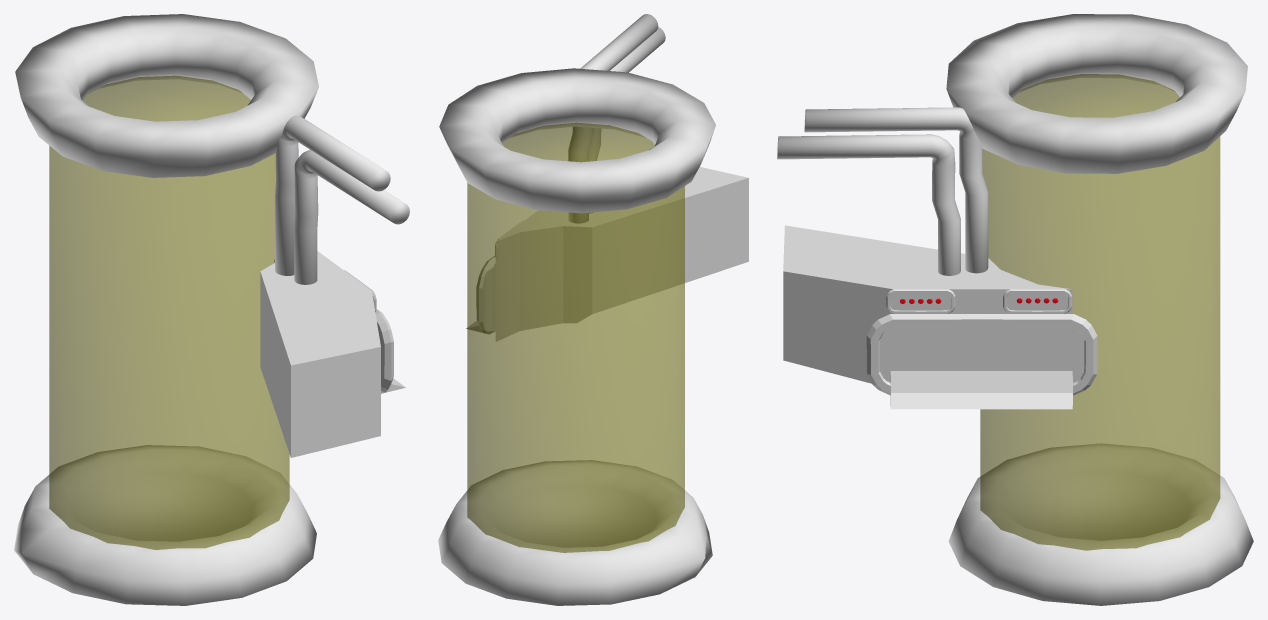
Rendered from reactor.glb.
3 views of the same model, side by side, from view 1: azimuth 30°, elevation 25°; view 2: azimuth 150°, elevation 25°; view 3: azimuth 270°, elevation 25° (orthographic). The views are drawn at different scales.
Visible parts, largest first — view 1: Canister, CanisterHolders, MainConsole, Pipes; view 2: Canister, CanisterHolders, MainConsole, Pipes; view 3: Canister, CanisterHolders, MainConsole, Pipes.
Part boxes in pixels (left/top/right/bottom): Canister: left=49, top=75, right=289, bottom=549; CanisterHolders: left=14, top=14, right=318, bottom=605; MainConsole: left=260, top=251, right=405, bottom=457; Pipes: left=275, top=116, right=409, bottom=284; Canister: left=467, top=122, right=684, bottom=552; CanisterHolders: left=438, top=68, right=715, bottom=605; MainConsole: left=466, top=167, right=748, bottom=341; Pipes: left=568, top=14, right=665, bottom=223; Canister: left=980, top=74, right=1220, bottom=550; CanisterHolders: left=946, top=14, right=1253, bottom=605; MainConsole: left=783, top=225, right=1097, bottom=409; Pipes: left=777, top=107, right=988, bottom=275.
Size of the model in its own units: 1.54 by 2.52 by 2.29.
